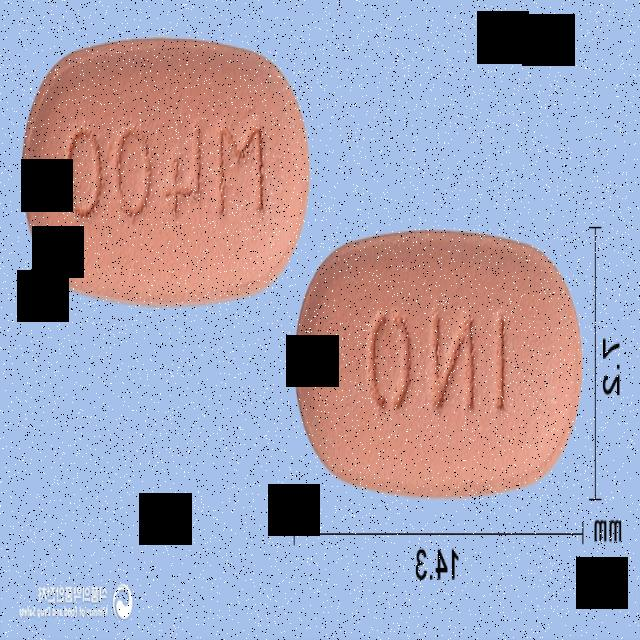Moveloxin: (295, 229, 581, 497), (20, 38, 309, 302)
